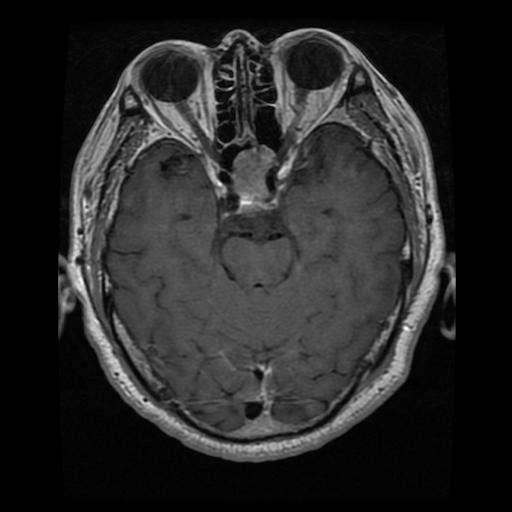Tumour-Pituitary: (203, 154, 309, 221)
